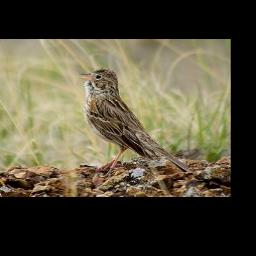Sparrow: (73, 64, 198, 182)
